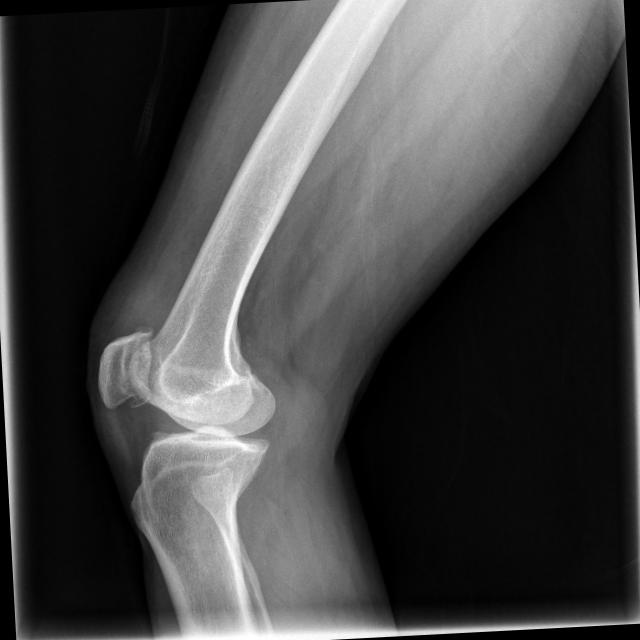Knee: (95, 322, 290, 504)
